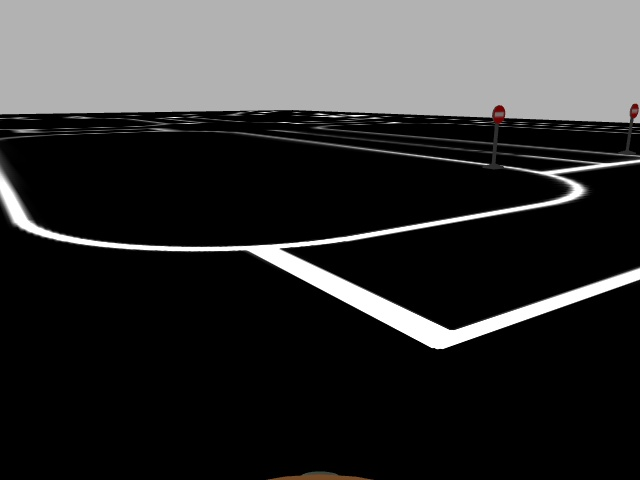prohibited: (491, 102, 507, 128)
